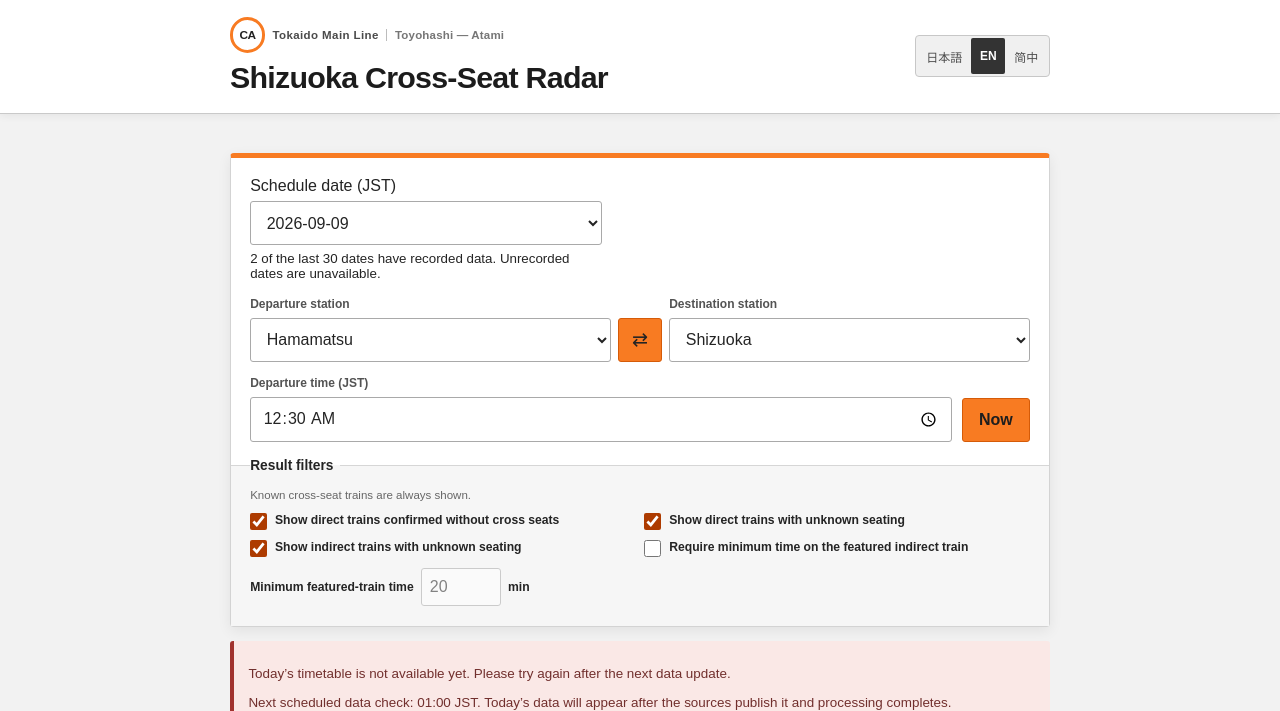
it: does not allow a late history response to replace the latest selection
Select "2026-09-08" in the dropdown labelled "Schedule date (JST)" at (426, 223), box [250,201,602,245]
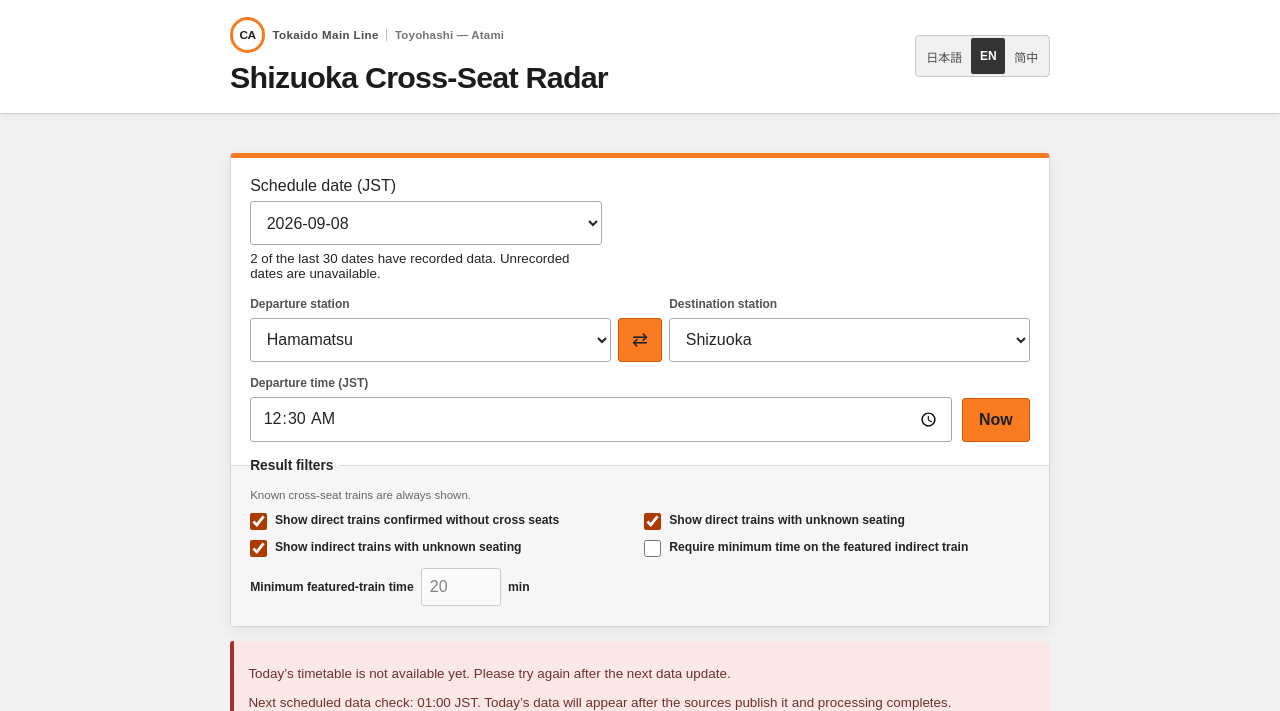
Select "2026-09-09" in the dropdown labelled "Schedule date (JST)" at (426, 223), box [250,201,602,245]
(page scrolled)
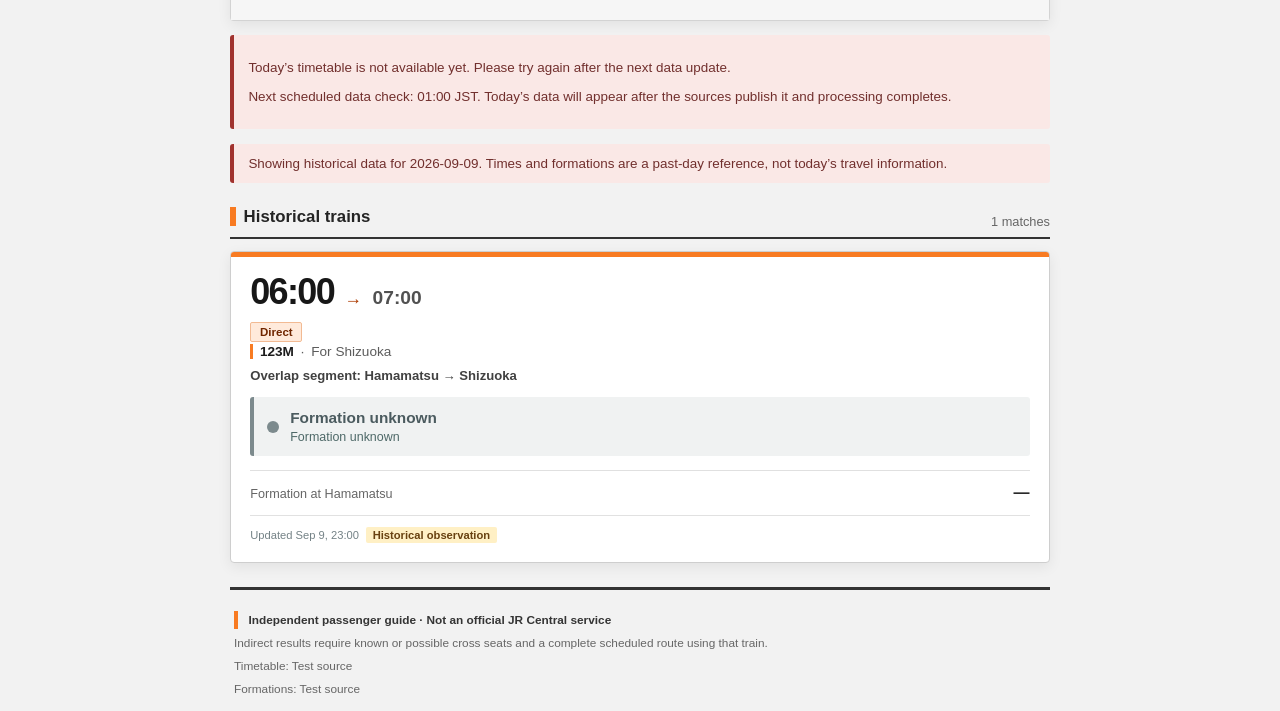
Result: the text "123M" is shown at [250,344,294,359]
